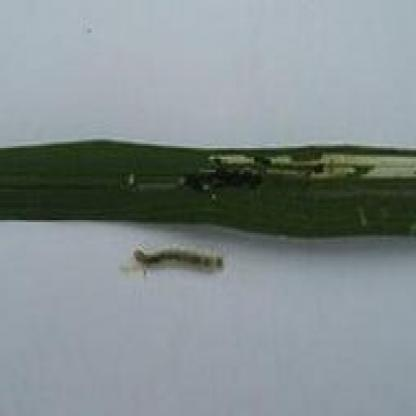leaf-folder: (122, 235, 244, 289)
